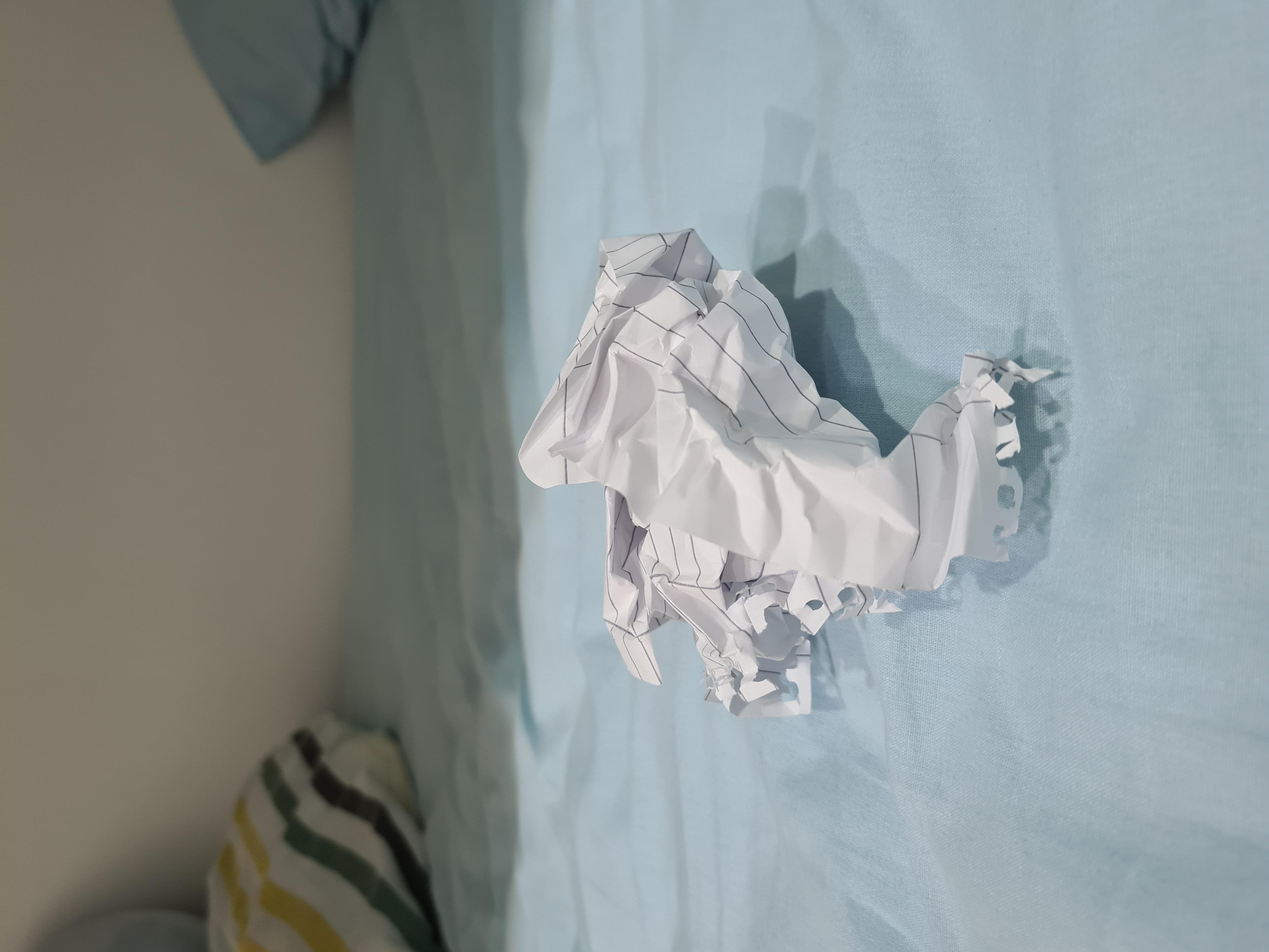paper: (328, 383, 971, 775)
